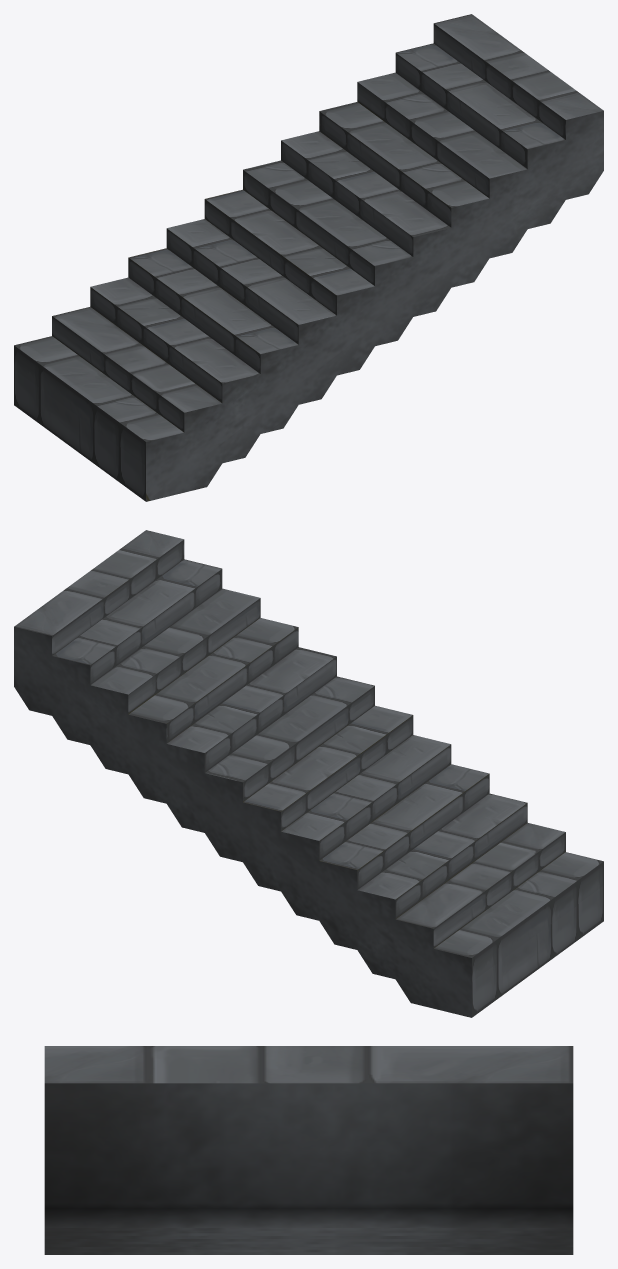
File: Stairs.001.fbx
3 renders of one model, top to bottom at view 1: azimuth 30°, elevation 25°; view 2: azimuth 150°, elevation 25°; view 3: azimuth 270°, elevation 25°, orthographic. The views are drawn at different scales.
Parts seen in each view (by area): view 1: Stairs.001; view 2: Stairs.001; view 3: Stairs.001.
Boxes of the visible parts, x1,y1,x2,y2 form: Stairs.001: (14, 14, 603, 501); Stairs.001: (14, 530, 603, 1017); Stairs.001: (44, 1046, 573, 1254).
Size of the model in its own units: 400 by 233 by 200.
